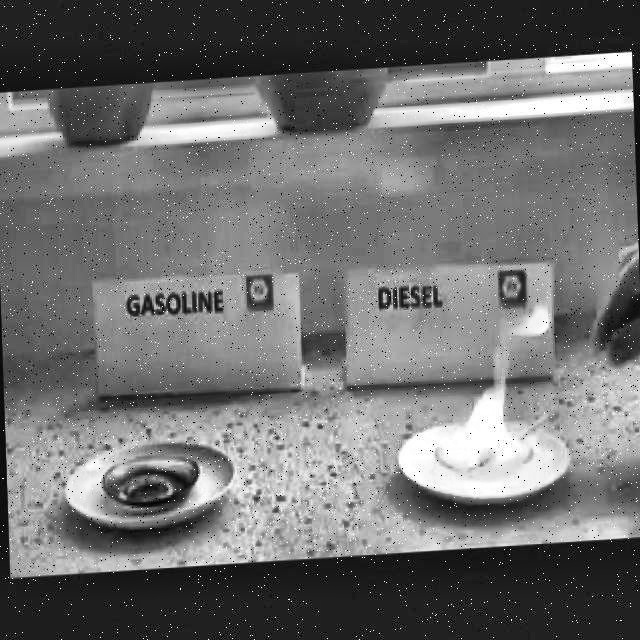Fire: (438, 305, 554, 479)
